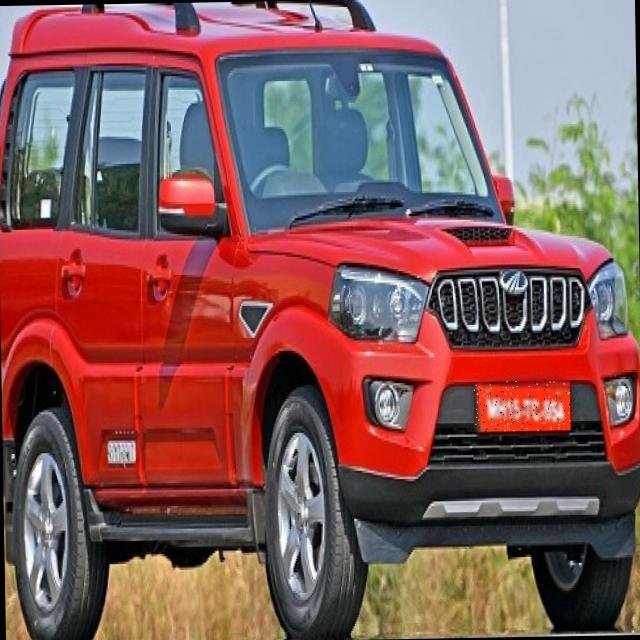Plate: (474, 381, 571, 433)
